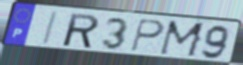3: (101, 17, 131, 51)
9: (201, 24, 232, 60)
I: (41, 10, 61, 46)
M: (157, 20, 208, 59)
P: (129, 17, 166, 53)
R: (62, 12, 101, 50)
